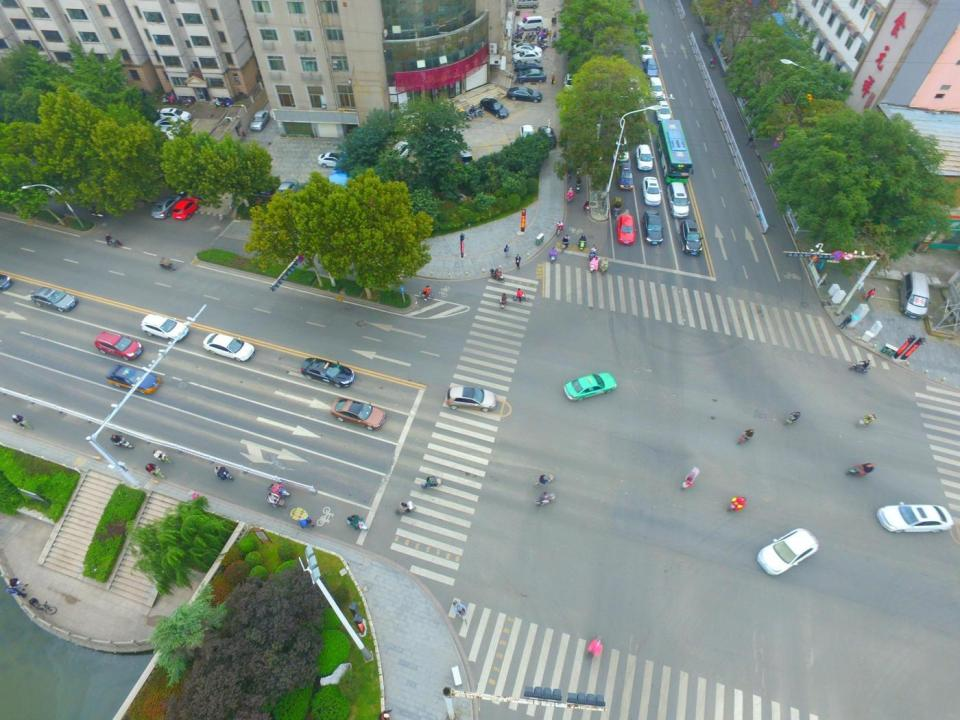bus: (654, 115, 693, 187)
car: (754, 522, 822, 577), (876, 496, 954, 535), (329, 395, 386, 430), (106, 362, 164, 394), (560, 370, 618, 401), (136, 310, 191, 342), (299, 356, 356, 386), (201, 332, 254, 361), (443, 386, 498, 413), (30, 284, 80, 312), (92, 333, 142, 360), (678, 218, 705, 254), (253, 174, 280, 209), (387, 136, 415, 166), (642, 210, 666, 245), (151, 192, 182, 219), (451, 139, 476, 172), (314, 150, 350, 170), (640, 174, 662, 206), (151, 116, 187, 135), (173, 196, 201, 220), (275, 178, 298, 207), (480, 96, 509, 119), (611, 133, 633, 163), (248, 107, 271, 135), (518, 121, 538, 153), (506, 86, 543, 103), (617, 214, 636, 245), (616, 161, 635, 191), (634, 142, 653, 171), (158, 108, 191, 124), (538, 124, 558, 150), (652, 99, 673, 123), (510, 50, 541, 66), (646, 75, 665, 101), (562, 72, 583, 95), (517, 68, 547, 84), (509, 43, 542, 57), (622, 71, 640, 95), (515, 61, 544, 73), (642, 56, 657, 78), (633, 25, 649, 44), (639, 43, 654, 62)
van: (898, 269, 931, 319), (666, 181, 691, 219), (517, 16, 544, 30), (515, 0, 540, 9)
